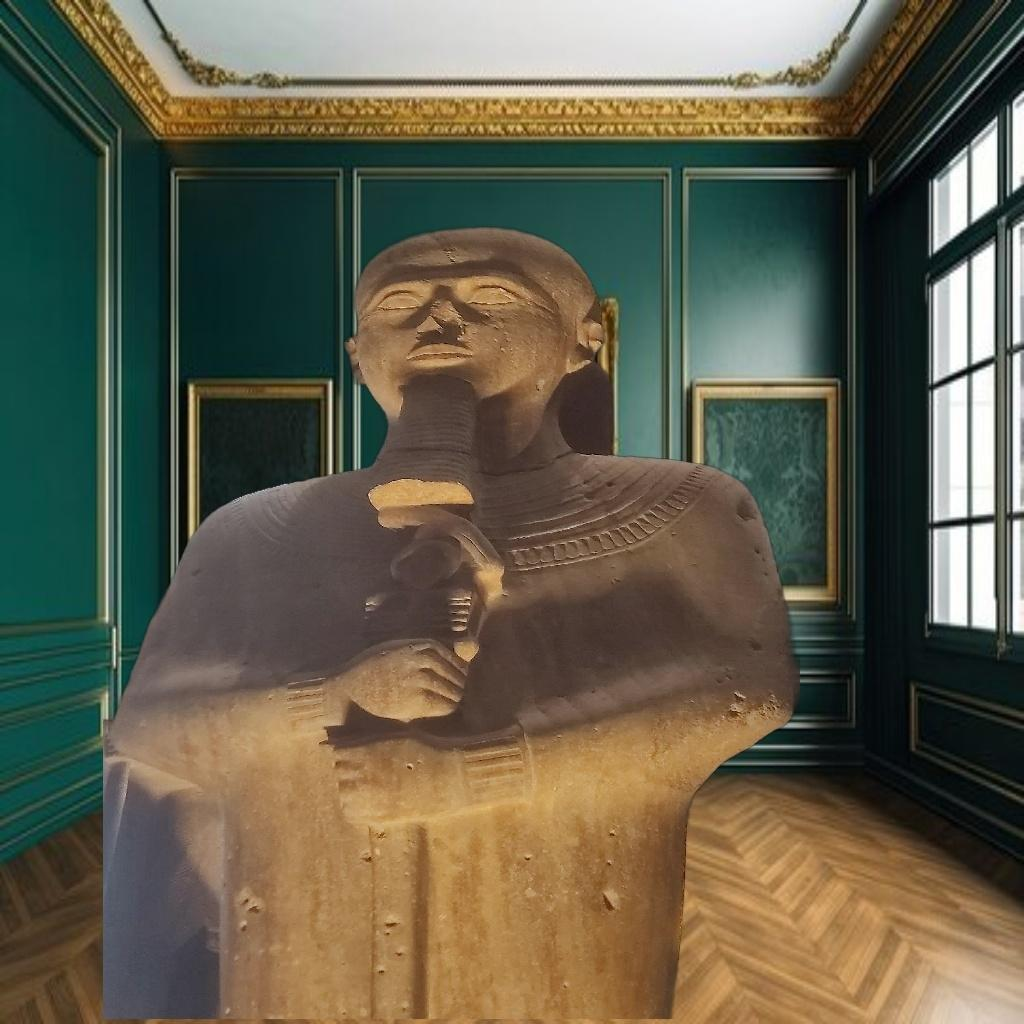Colossal Statue of God Ptah: (103, 220, 800, 1020)
